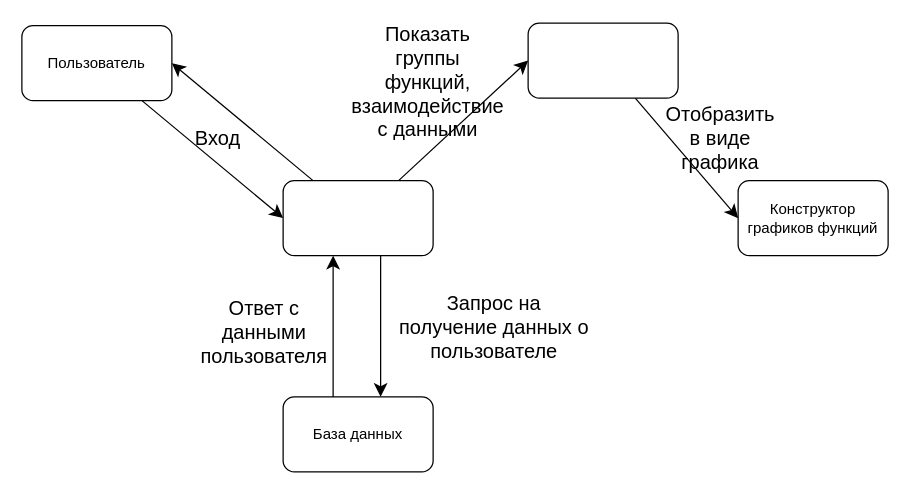
The diagram is 910 pixels wide and 494 high, and some of its shapes have lost their labels. The shapes that lost their labels are listed below. From the top down, each one's box as (x1, y1, x2, y2) in pixels, then its label:
(527, 22, 678, 98): Сохраненные группы функций
(282, 179, 433, 256): Страница авторизации
